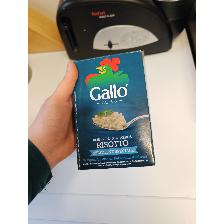Reis: (70, 50, 156, 170)
